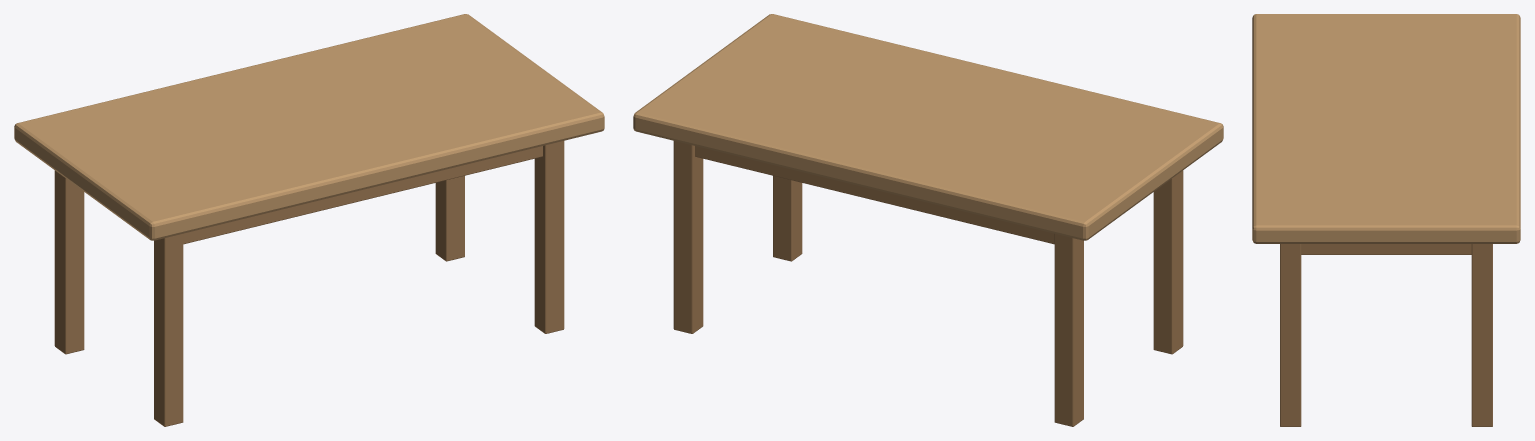
The model's file is table_rectangular_dining.glb.
3 views of the same model, side by side, from view 1: azimuth 30°, elevation 25°; view 2: azimuth 150°, elevation 25°; view 3: azimuth 270°, elevation 25° (orthographic). The views are drawn at different scales.
Visible parts, largest first — view 1: RectangularDiningTable_Top, RectangularDiningTable_Leg.002, RectangularDiningTable_Leg, RectangularDiningTable_Leg.001, RectangularDiningTable_Front_Back_Apron, RectangularDiningTable_Leg.003; view 2: RectangularDiningTable_Top, RectangularDiningTable_Leg.003, RectangularDiningTable_Leg.001, RectangularDiningTable_Leg, RectangularDiningTable_Front_Back_Apron.001, RectangularDiningTable_Leg.002; view 3: RectangularDiningTable_Top, RectangularDiningTable_Leg.002, RectangularDiningTable_Leg.003, RectangularDiningTable_Side_Apron.001.
Boxes of the visible parts, left/top/right/bottom form: RectangularDiningTable_Top: left=14, top=14, right=604, bottom=240; RectangularDiningTable_Leg.002: left=534, top=141, right=564, bottom=333; RectangularDiningTable_Leg: left=154, top=234, right=183, bottom=426; RectangularDiningTable_Leg.001: left=54, top=170, right=84, bottom=354; RectangularDiningTable_Front_Back_Apron: left=183, top=146, right=542, bottom=244; RectangularDiningTable_Leg.003: left=435, top=176, right=464, bottom=261; RectangularDiningTable_Top: left=633, top=14, right=1223, bottom=240; RectangularDiningTable_Leg.003: left=673, top=141, right=703, bottom=333; RectangularDiningTable_Leg.001: left=1054, top=234, right=1083, bottom=426; RectangularDiningTable_Leg: left=1153, top=170, right=1183, bottom=354; RectangularDiningTable_Front_Back_Apron.001: left=695, top=146, right=1054, bottom=244; RectangularDiningTable_Leg.002: left=773, top=176, right=802, bottom=261; RectangularDiningTable_Top: left=1252, top=14, right=1520, bottom=243; RectangularDiningTable_Leg.002: left=1280, top=244, right=1301, bottom=426; RectangularDiningTable_Leg.003: left=1471, top=244, right=1492, bottom=426; RectangularDiningTable_Side_Apron.001: left=1301, top=244, right=1471, bottom=254.
Size of the model in its own units: 1.61 by 0.746 by 0.85.
